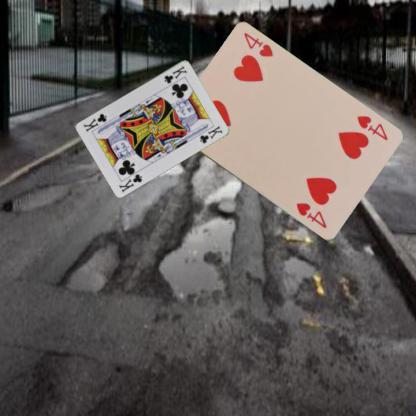4h: (354, 113, 388, 142)
Kc: (116, 171, 143, 193), (162, 63, 188, 85)
